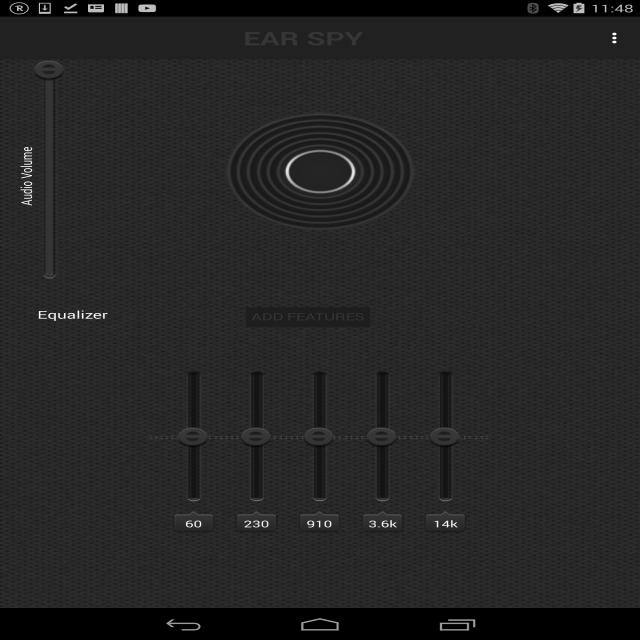Button: (205, 102, 435, 242), (246, 308, 370, 328)
ImageView: (589, 22, 640, 54), (149, 436, 491, 440)
TextView: (17, 25, 589, 51), (162, 511, 225, 533), (225, 511, 288, 533), (288, 511, 350, 533), (352, 511, 414, 533), (414, 511, 476, 533), (32, 307, 114, 323), (16, 206, 111, 218)
